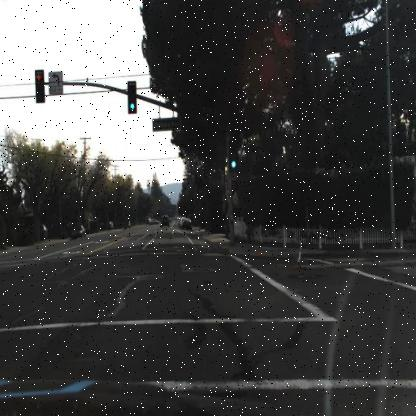car: (69, 221, 88, 242), (37, 221, 48, 240)
trafficLight-Green: (127, 79, 138, 117), (228, 138, 239, 172)
trafficLight-RedLeft: (34, 71, 45, 103)
